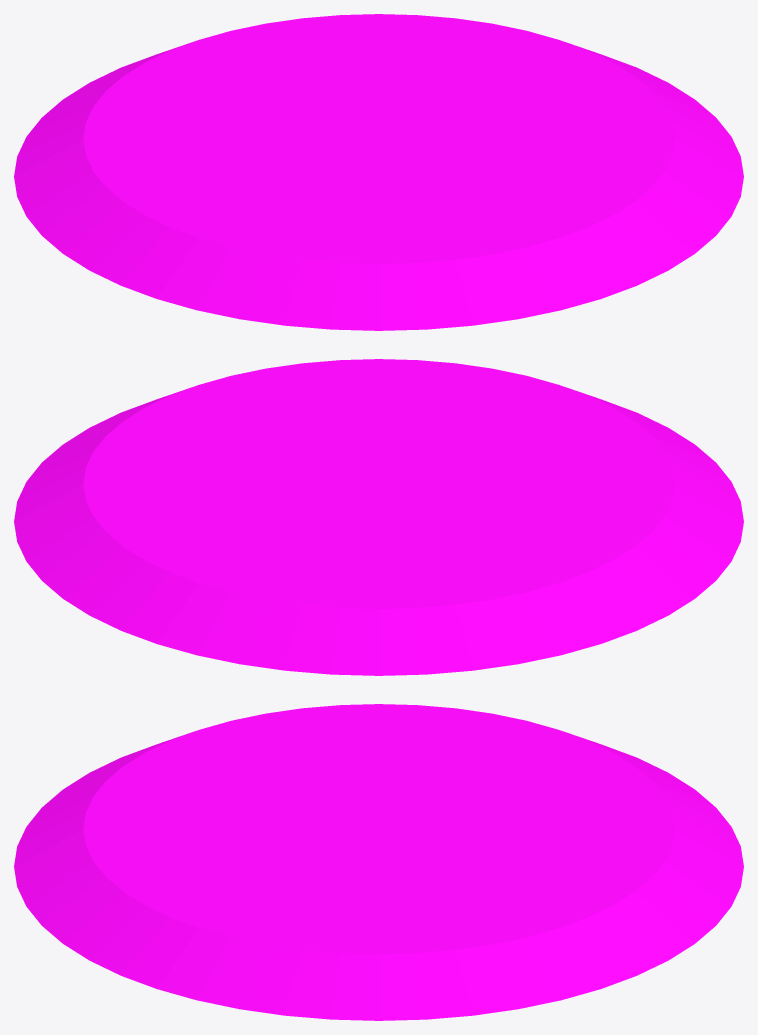
File: hall-stage-collision.glb
3 renders of one model, top to bottom at view 1: azimuth 30°, elevation 25°; view 2: azimuth 150°, elevation 25°; view 3: azimuth 270°, elevation 25°, orthographic.
Parts seen in each view (by area): view 1: hall-stage-collision; view 2: hall-stage-collision; view 3: hall-stage-collision.
Boxes of the visible parts, left/top/right/bottom form: hall-stage-collision: left=14, top=14, right=743, bottom=330; hall-stage-collision: left=14, top=359, right=743, bottom=675; hall-stage-collision: left=14, top=704, right=743, bottom=1020.
Bounding box in the file's own units: 7.9 × 0.4499 × 7.9.
